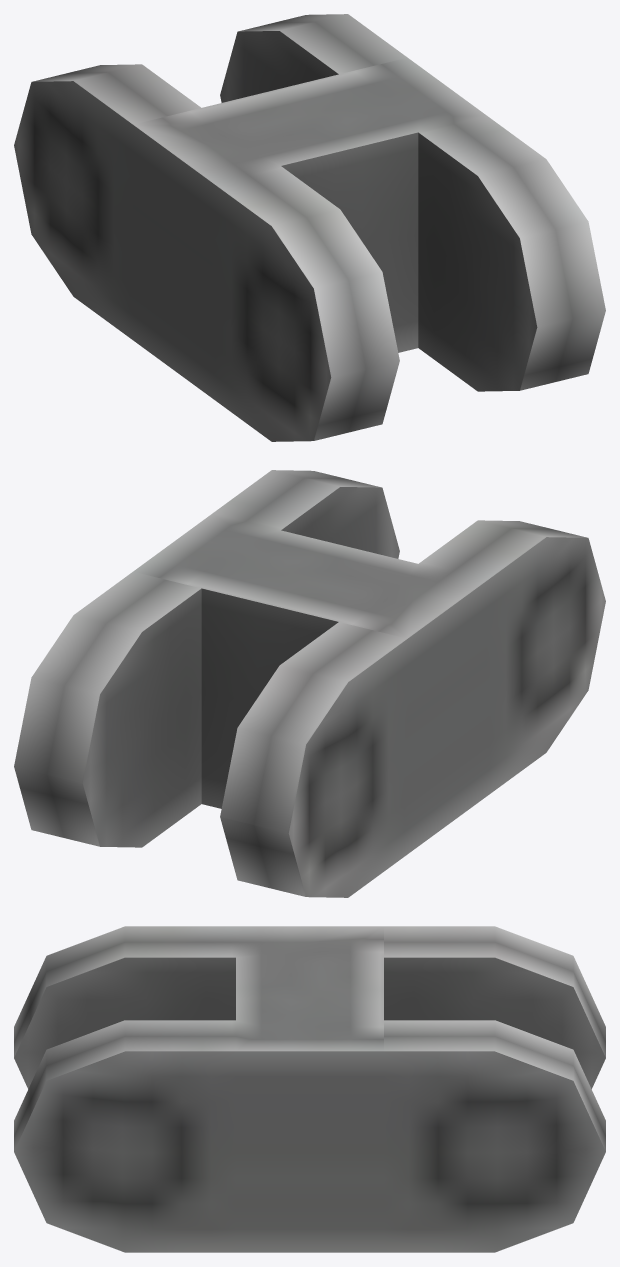
The model's file is 4mv_sensor_magnetometer_srf_1_hinge.obj.
The picture shows the model from 3 angles, top to bottom: view 1: azimuth 30°, elevation 25°; view 2: azimuth 150°, elevation 25°; view 3: azimuth 270°, elevation 25°; orthographic projection. The views are drawn at different scales.
Parts seen in each view (by area): view 1: mesh1; view 2: mesh1; view 3: mesh1.
Part boxes in pixels (x1,y1,x2,y2): mesh1: (14, 14, 605, 441); mesh1: (14, 470, 605, 897); mesh1: (14, 926, 605, 1252).
Size of the model in its own units: 0.05 by 0.0375 by 0.1.
Materials: 1 (1 with a texture image).
